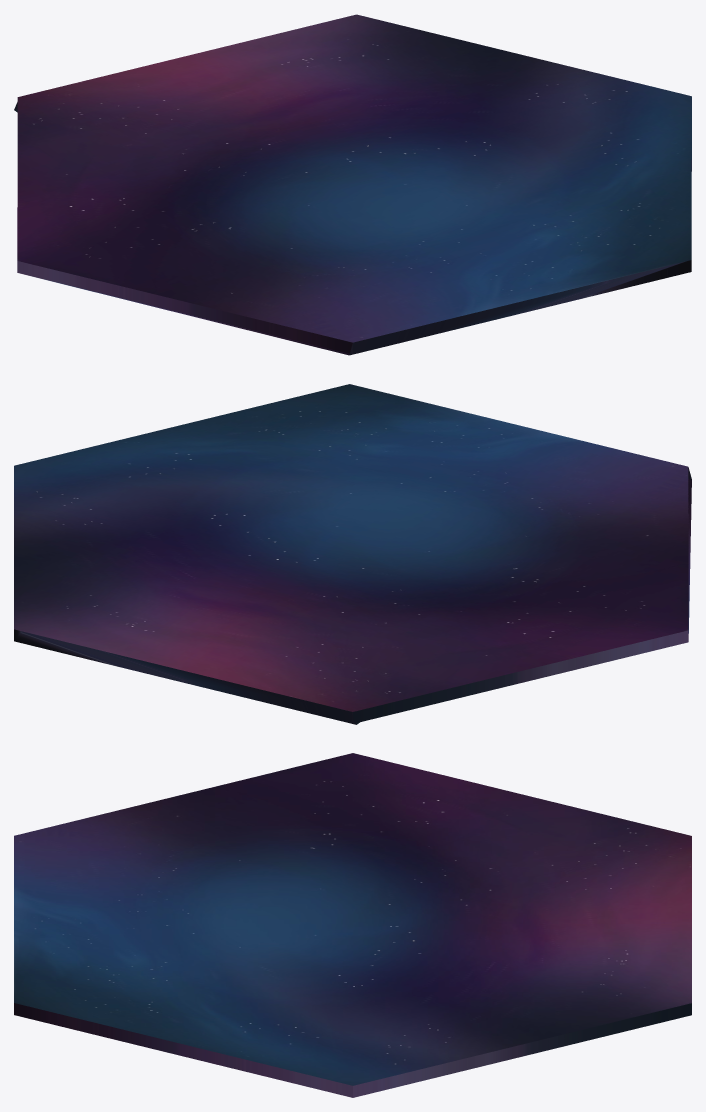
Rendered from WholeMuseum.gltf.
3 renders of one model, top to bottom at view 1: azimuth 30°, elevation 25°; view 2: azimuth 150°, elevation 25°; view 3: azimuth 270°, elevation 25°, orthographic.
Parts seen in each view (by area): view 1: Piso; view 2: Piso; view 3: Piso.
Part boxes in pixels (bbox=[...]): Piso: bbox=[14, 14, 691, 355]; Piso: bbox=[14, 384, 691, 724]; Piso: bbox=[14, 753, 691, 1097].
Size of the model in its own units: 30.27 by 0.5131 by 26.06.
Materials: 1 (1 with a texture image).
